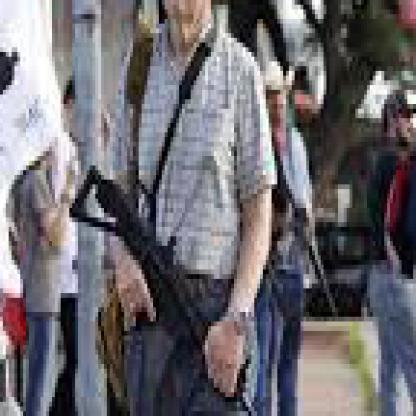gun: (0, 29, 413, 412)
